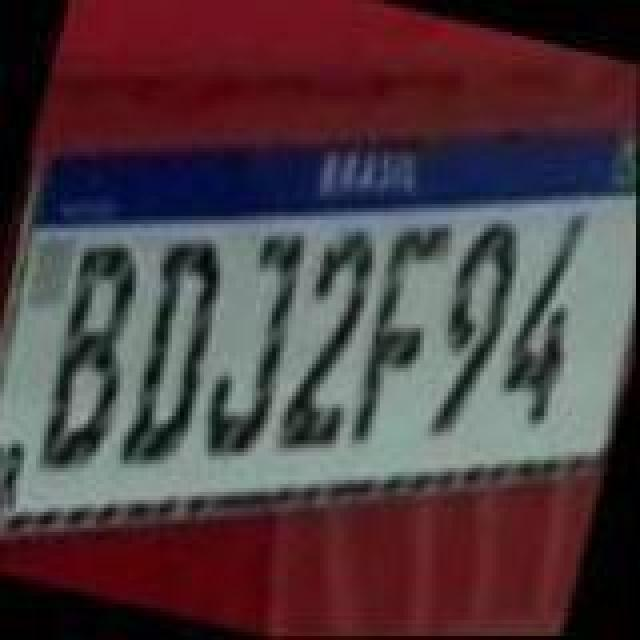2: (268, 220, 396, 464)
4: (490, 202, 606, 430)
9: (416, 214, 536, 454)
B: (22, 232, 162, 488)
D: (108, 228, 244, 480)
F: (338, 210, 462, 458)
J: (196, 218, 324, 466)
